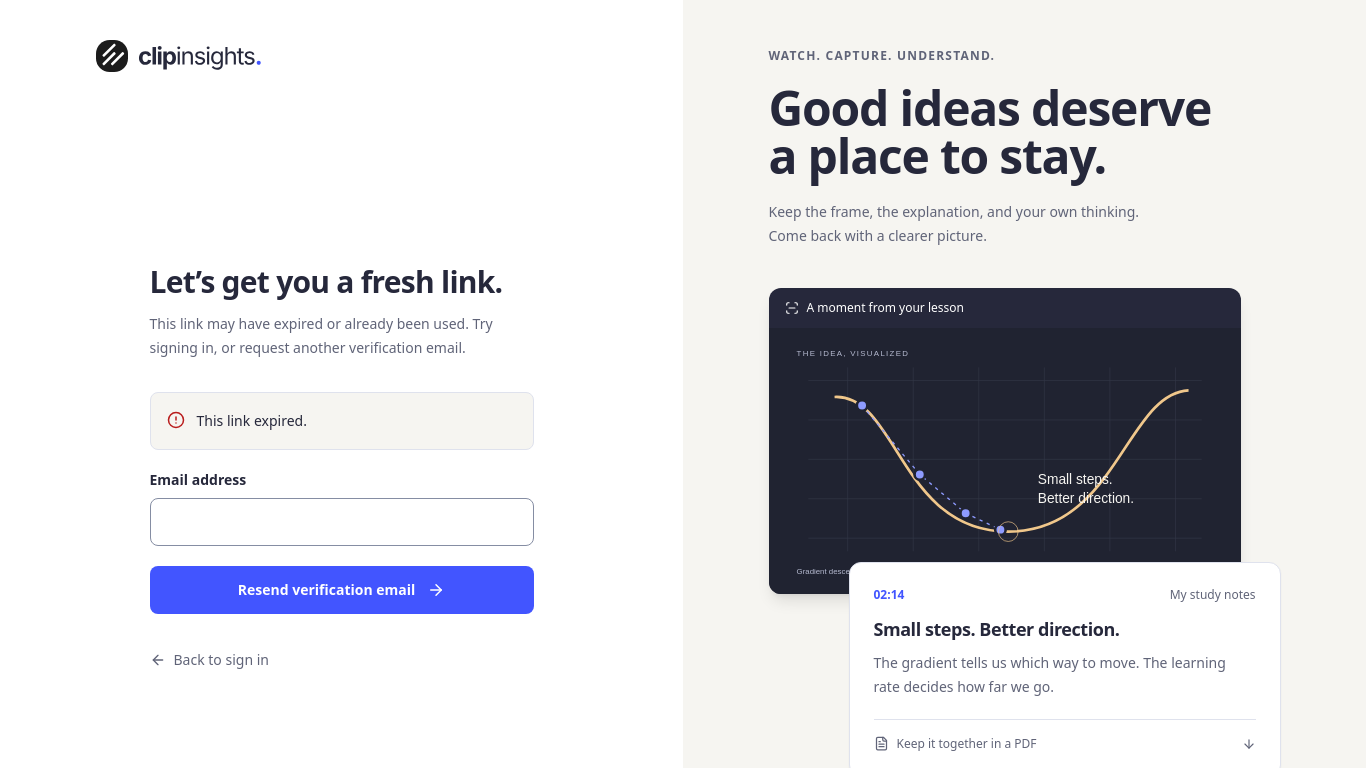
account recovery › recovers an expired verification link without losing the selected plan
The image size is (1366, 768).
Expected: the heading "Let’s get you a fresh link." is shown, x1=150 y1=264 x2=534 y2=300
Type "learner@example.test" into the field labelled "Email address".
click(342, 522); type("learner@example.test")  # box x1=150 y1=498 x2=534 y2=546
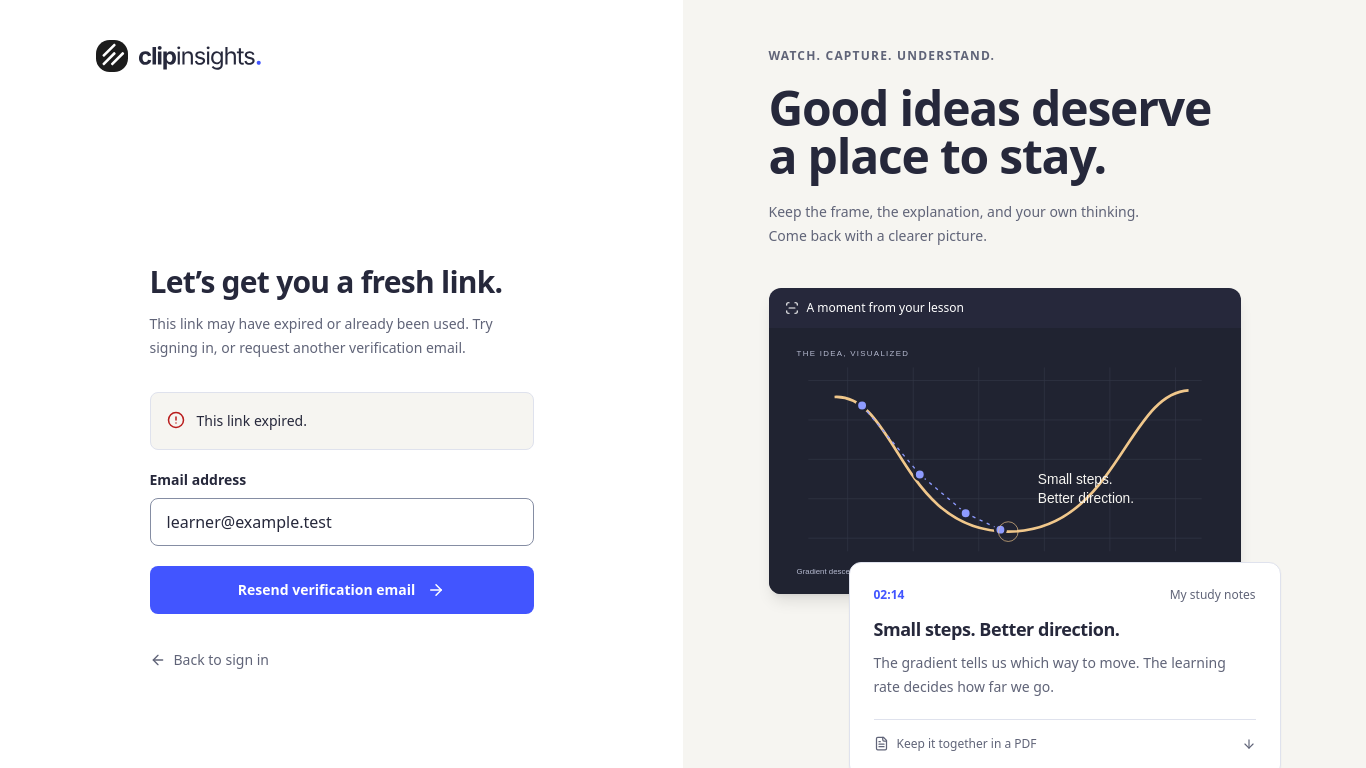
Click the button "Resend verification email".
click(342, 590)  # box x1=150 y1=566 x2=534 y2=614
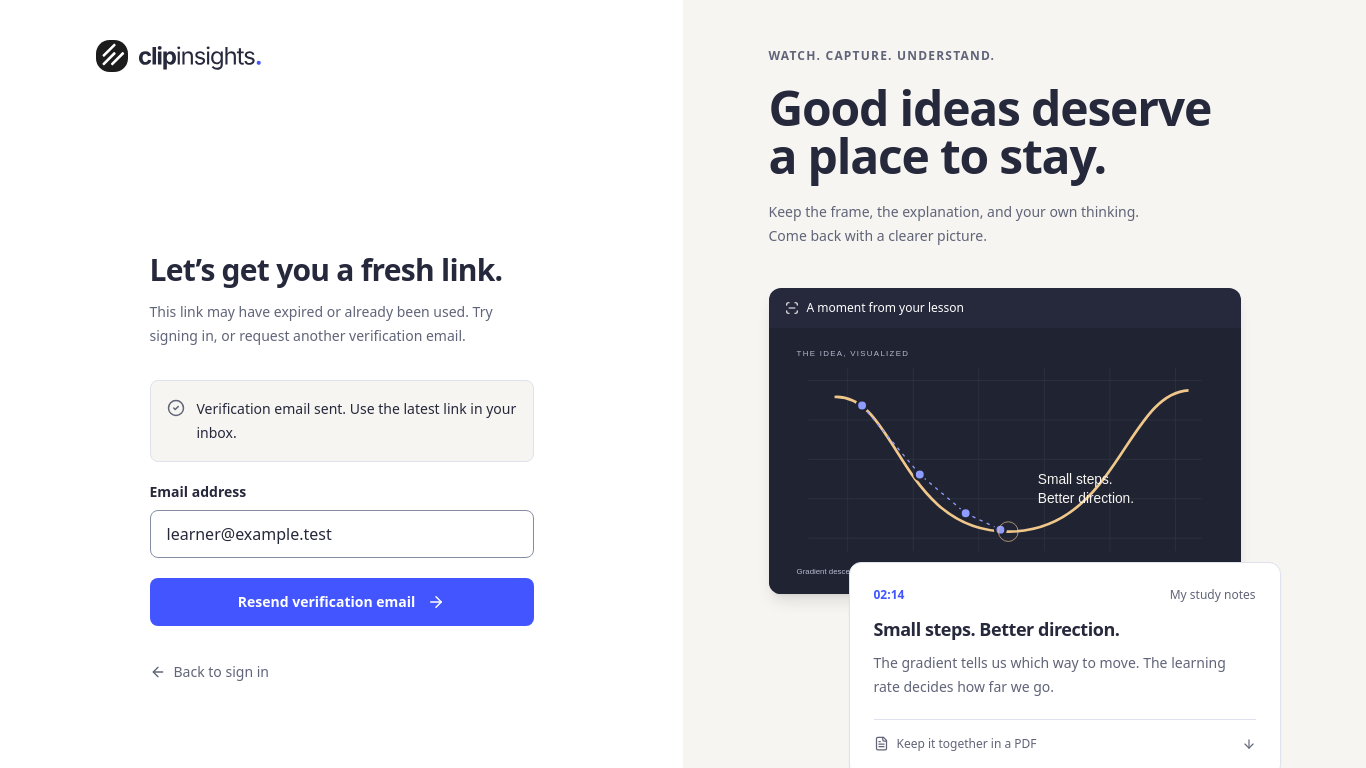
Result: the text "Verification email sent. Use the latest link in your inbox." is shown at x1=196 y1=397 x2=516 y2=445
